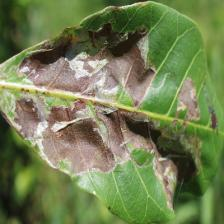leaf miner: (1, 20, 207, 215)
